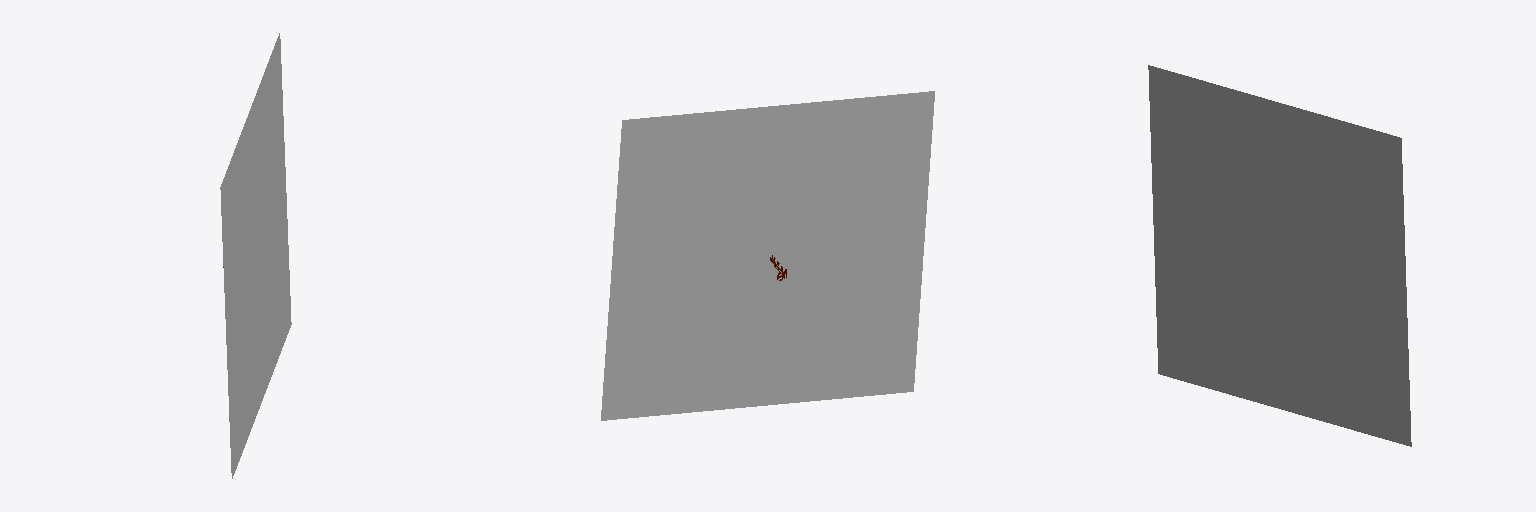
Rendered from staircase.obj.
3 views of the same model, side by side, from view 1: azimuth 30°, elevation 25°; view 2: azimuth 150°, elevation 25°; view 3: azimuth 270°, elevation 25° (orthographic).
Visible parts, largest first — view 1: Plane; view 2: Plane; view 3: Plane.
Boxes of the visible parts, <box> form: Plane: <box>220,33,291,478</box>; Plane: <box>601,91,934,420</box>; Plane: <box>1148,65,1411,446</box>.
Bounding box in the file's own units: 48.62 × 73.11 × 54.65.